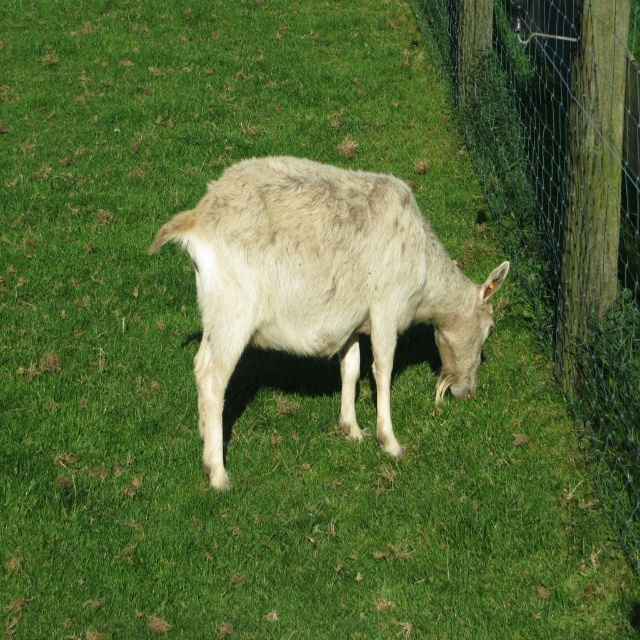Goat: (150, 153, 511, 494)
